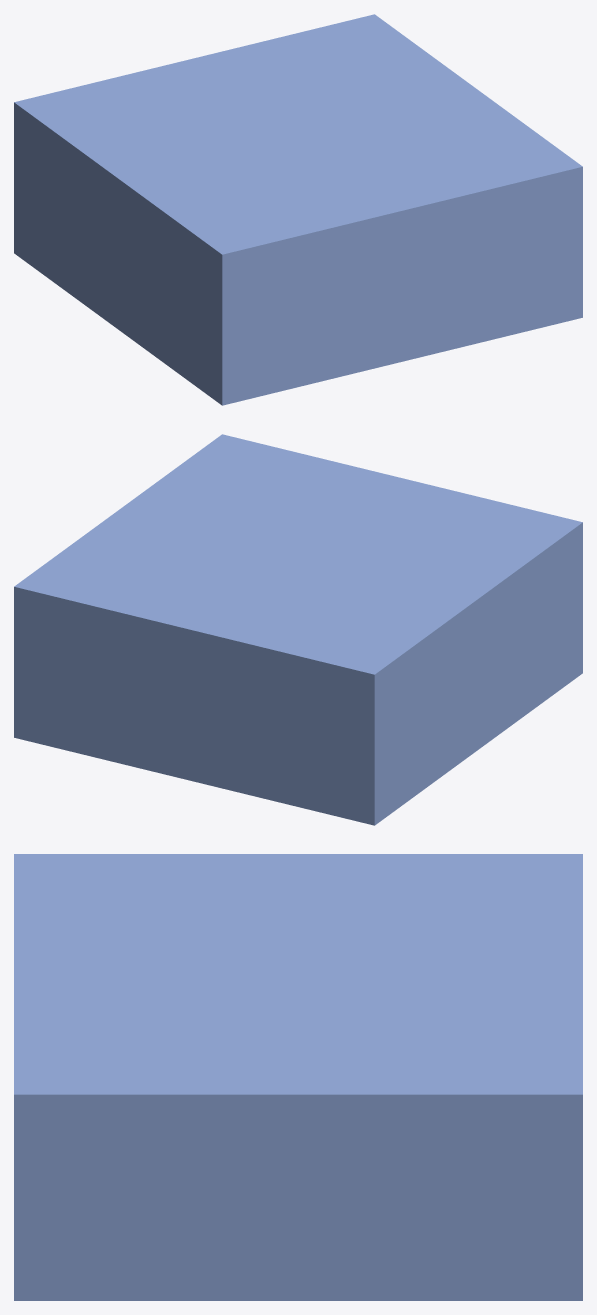
File: Jump.FBX
The picture shows the model from 3 angles, top to bottom: view 1: azimuth 30°, elevation 25°; view 2: azimuth 150°, elevation 25°; view 3: azimuth 270°, elevation 25°; orthographic projection. The views are drawn at different scales.
Parts seen in each view (by area): view 1: Jump; view 2: Jump; view 3: Jump.
Boxes of the visible parts, left/top/right/bottom form: Jump: left=14, top=14, right=582, bottom=405; Jump: left=14, top=434, right=582, bottom=825; Jump: left=14, top=854, right=582, bottom=1300.
Bounding box in the file's own units: 200 × 80 × 200.
